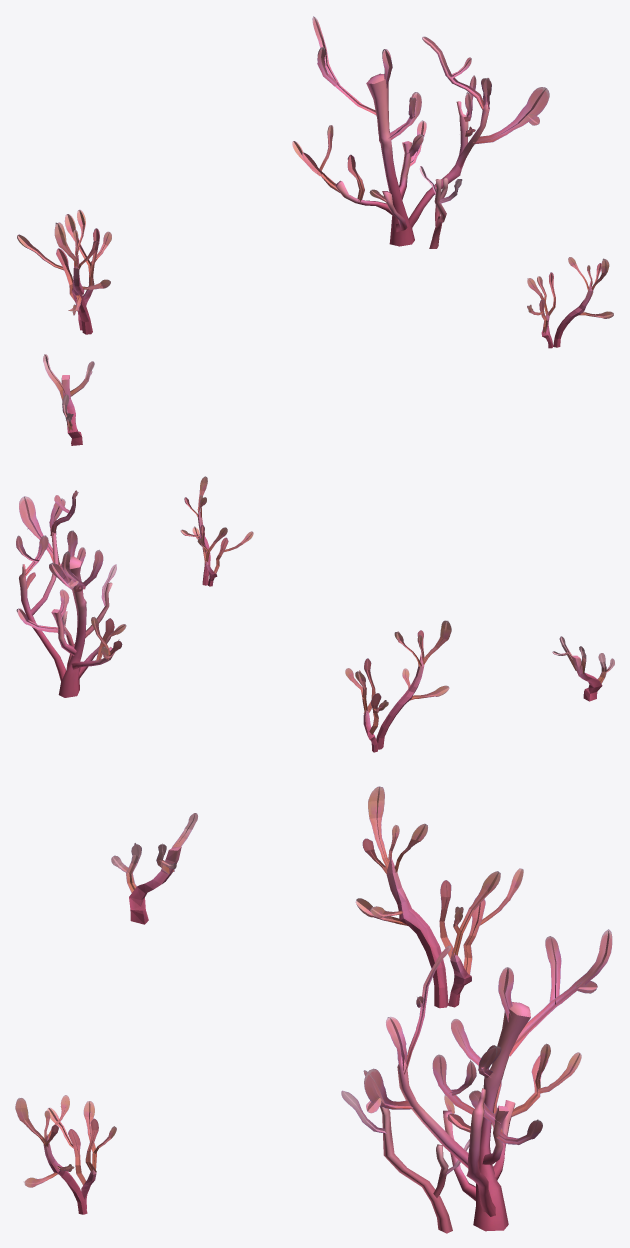
The model's file is Homeworld_Exterior_Common_Thing_Pool_01_B_Lod0.fbx.
3 renders of one model, top to bottom at view 1: azimuth 30°, elevation 25°; view 2: azimuth 150°, elevation 25°; view 3: azimuth 270°, elevation 25°, orthographic. The views are drawn at different scales.
Visible parts, largest first — view 1: Homeworld_Exterior_Common_Thing_Pool_01_B_Lod0; view 2: Homeworld_Exterior_Common_Thing_Pool_01_B_Lod0; view 3: Homeworld_Exterior_Common_Thing_Pool_01_B_Lod0.
Part boxes in pixels (left/top/right/bottom): Homeworld_Exterior_Common_Thing_Pool_01_B_Lod0: left=17, top=16, right=613, bottom=445; Homeworld_Exterior_Common_Thing_Pool_01_B_Lod0: left=16, top=476, right=614, bottom=752; Homeworld_Exterior_Common_Thing_Pool_01_B_Lod0: left=15, top=786, right=612, bottom=1233.
Bounding box in the file's own units: 6.37 × 2.28 × 4.32.
